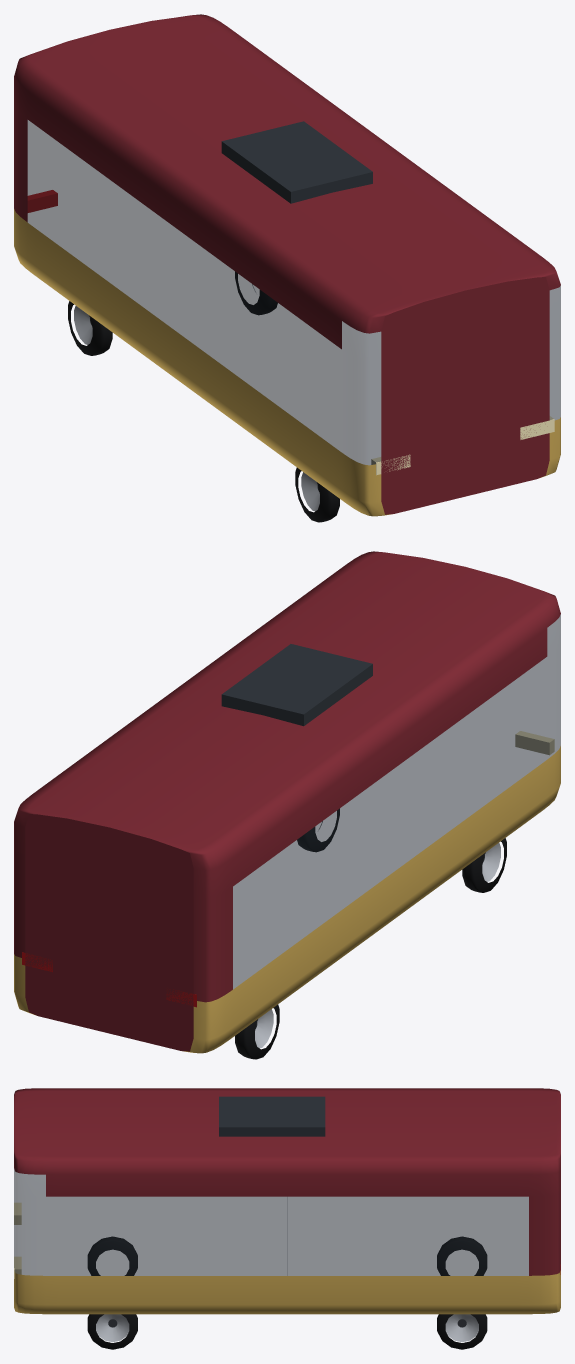
File: mobile.glb
3 views of the same model, one above another, from view 1: azimuth 30°, elevation 25°; view 2: azimuth 150°, elevation 25°; view 3: azimuth 270°, elevation 25° (orthographic). The views are drawn at different scales.
Parts seen in each view (by area): view 1: body, glass, tyre_fr, tyre_rr; view 2: body, glass, tyre_rr, tyre_fr, light_head_r; view 3: body, glass, tyre_fr, tyre_rr, tyre_fl, tyre_rl, rim_fl, rim_rl.
Boxes of the visible parts, x1=… form: body: x1=14, y1=14, x2=560, y2=516; glass: x1=27, y1=120, x2=560, y2=465; tyre_fr: x1=295, y1=467, x2=339, y2=522; tyre_rr: x1=68, y1=301, x2=112, y2=355; body: x1=14, y1=551, x2=560, y2=1053; glass: x1=233, y1=614, x2=560, y2=989; tyre_rr: x1=235, y1=1004, x2=279, y2=1059; tyre_fr: x1=462, y1=838, x2=506, y2=892; light_head_r: x1=515, y1=731, x2=554, y2=755; body: x1=14, y1=1088, x2=560, y2=1314; glass: x1=14, y1=1169, x2=528, y2=1275; tyre_fr: x1=87, y1=1236, x2=137, y2=1275; tyre_rr: x1=437, y1=1236, x2=487, y2=1275; tyre_fl: x1=87, y1=1314, x2=137, y2=1349; tyre_rl: x1=437, y1=1314, x2=487, y2=1349; rim_fl: x1=96, y1=1314, x2=129, y2=1342; rim_rl: x1=445, y1=1314, x2=478, y2=1342.
Size of what is drawn, in the model's own units: 2.4 by 2.97 by 7.2.
